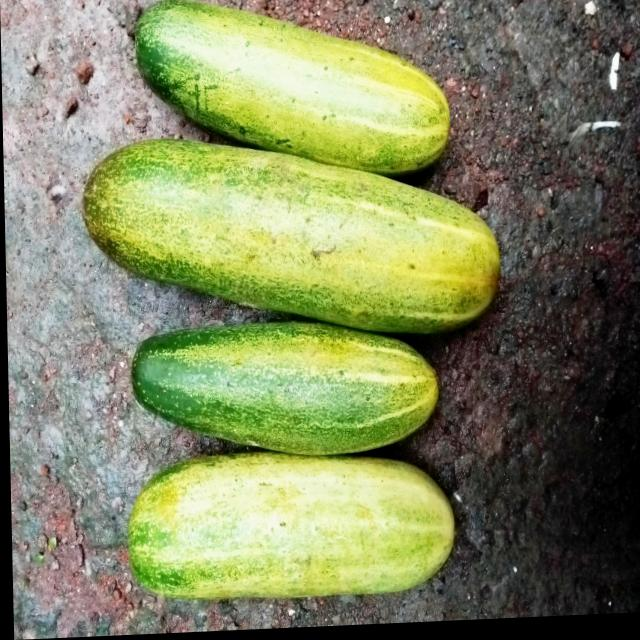Fresh-Cucumber: (80, 126, 502, 350), (133, 0, 454, 189), (119, 447, 454, 610), (128, 316, 439, 469)
